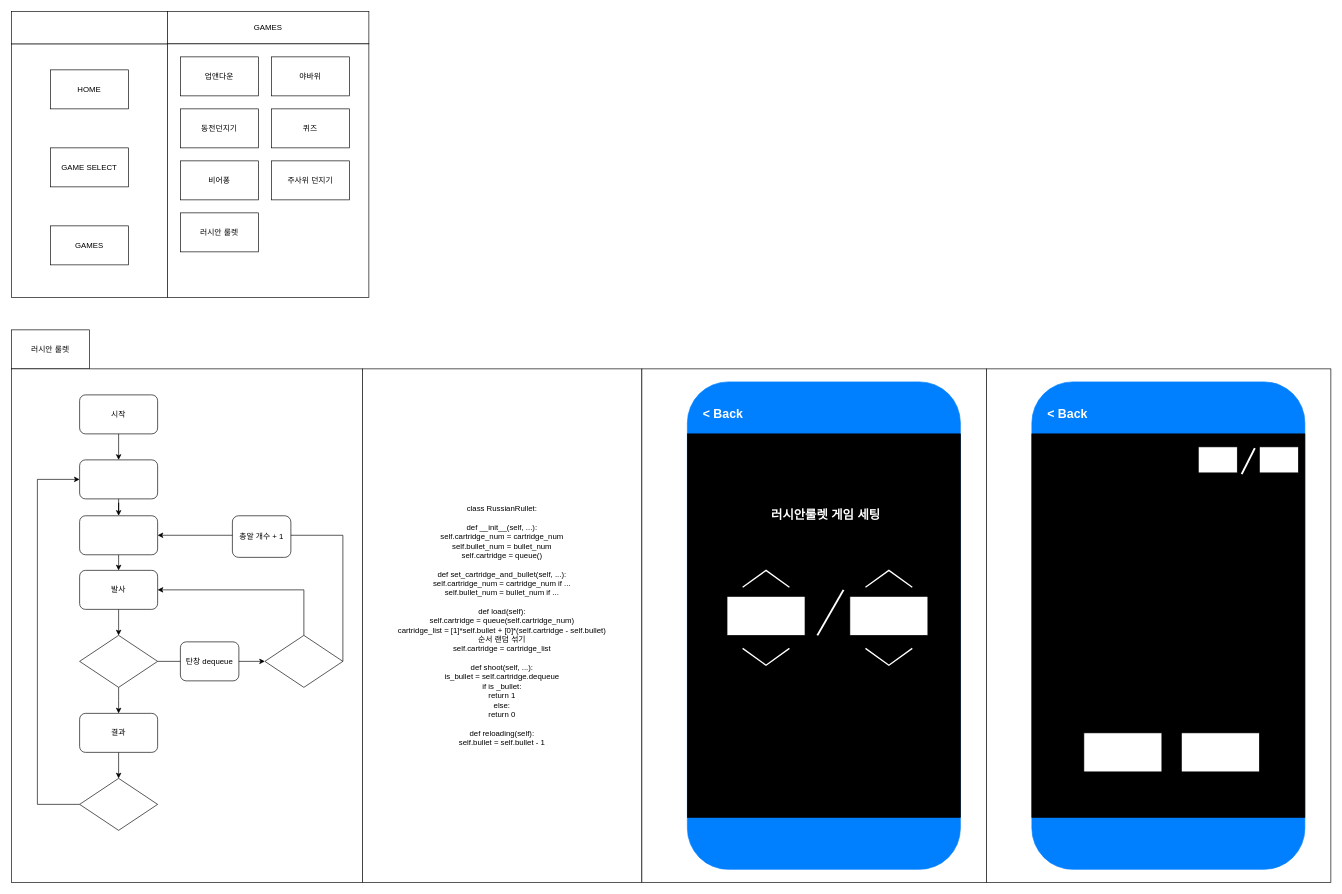
The diagram is 1342 pixels wide and 894 high, and some of its shapes have lost their labels. Each missing label, with the centre of its shape:
PAGES: the point at 89,27
장전: the point at 118,535
재시작: the point at 118,804
총알 개수 늘리고 탄창 순서 초기화: the point at 303,661
총알=적중: the point at 118,661
탄창 용량과 총알 개수 세팅: the point at 118,479
